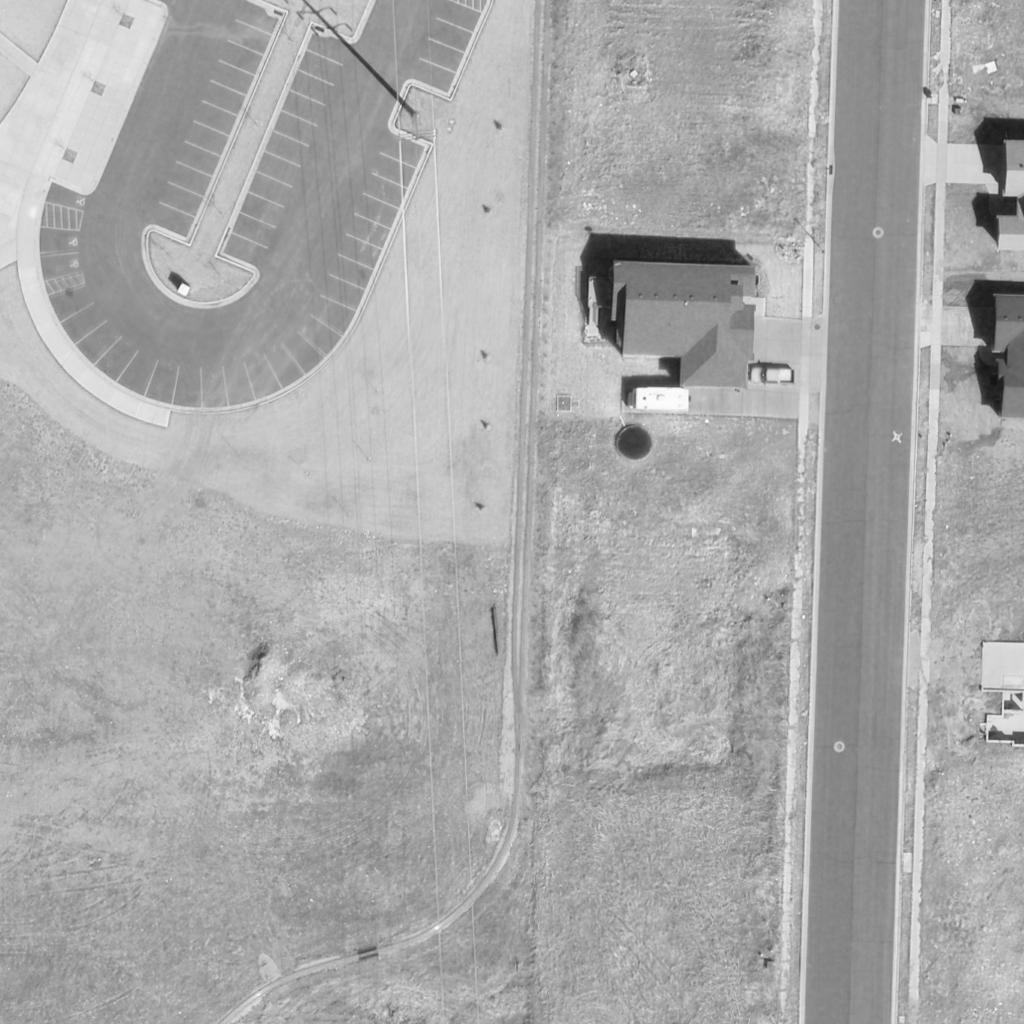vehicle: (624, 386, 692, 412), (750, 366, 796, 384)
